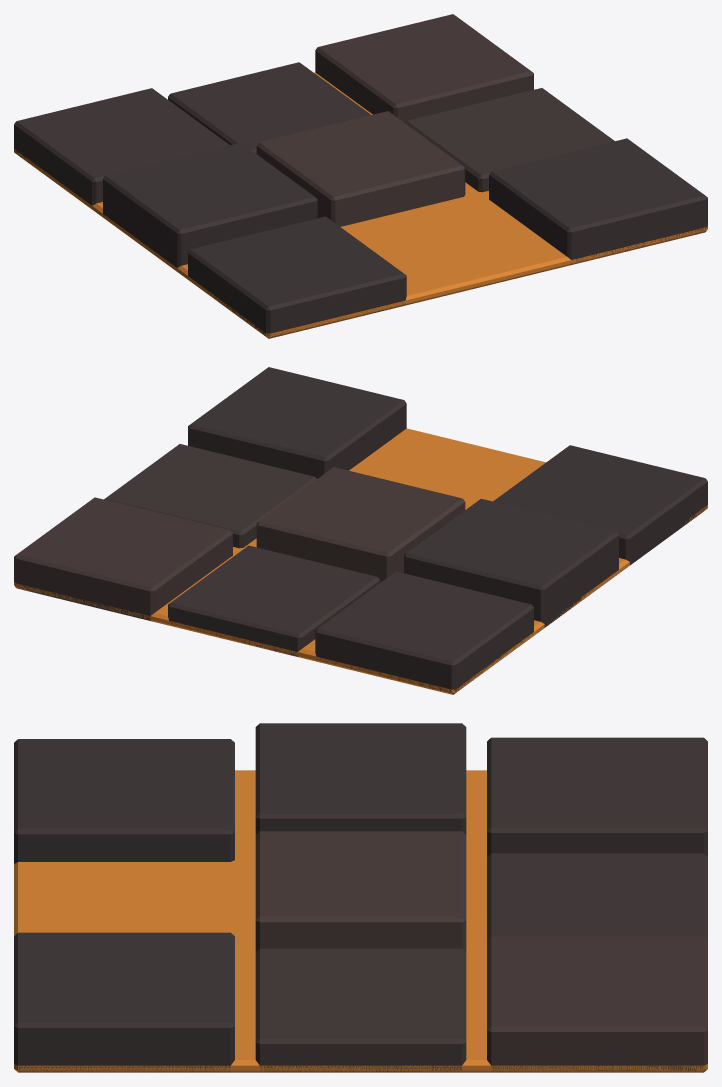
The model's file is lava_tile.glb.
The picture shows the model from 3 angles, top to bottom: view 1: azimuth 30°, elevation 25°; view 2: azimuth 150°, elevation 25°; view 3: azimuth 270°, elevation 25°; orthographic projection. The views are drawn at different scales.
Parts seen in each view (by area): view 1: LavaTile; view 2: LavaTile; view 3: LavaTile.
Boxes of the visible parts, left/top/right/bottom form: LavaTile: left=14, top=14, right=707, bottom=338; LavaTile: left=14, top=367, right=707, bottom=694; LavaTile: left=14, top=723, right=707, bottom=1072.
Size of the model in its own units: 1 by 0.0947 by 1.
